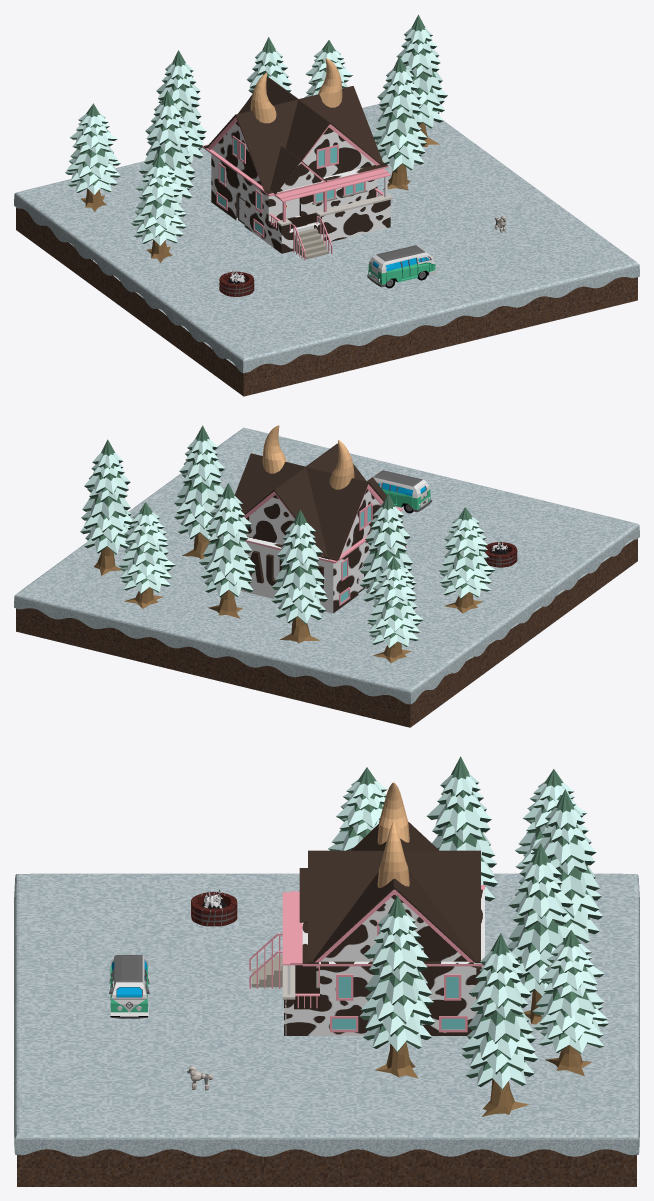
3 renders of one model, top to bottom at view 1: azimuth 30°, elevation 25°; view 2: azimuth 150°, elevation 25°; view 3: azimuth 270°, elevation 25°, orthographic. The views are drawn at different scales.
Visible parts, largest first — view 1: Cube.003, Cube.1242, VEHICLES_VAN, OBJRANDOM_CAMPFIRE; view 2: Cube.003, Cube.1242, VEHICLES_VAN, OBJRANDOM_CAMPFIRE; view 3: Cube.003, Cube.1242, VEHICLES_VAN, OBJRANDOM_CAMPFIRE.
Part boxes in pixels (<box>): Cube.003: <box>14,14,639,396</box>; Cube.1242: <box>202,58,393,260</box>; VEHICLES_VAN: <box>367,245,436,288</box>; OBJRANDOM_CAMPFIRE: <box>219,270,254,296</box>; Cube.003: <box>14,425,639,727</box>; Cube.1242: <box>235,425,406,613</box>; VEHICLES_VAN: <box>372,470,431,513</box>; OBJRANDOM_CAMPFIRE: <box>485,541,517,567</box>; Cube.003: <box>14,756,639,1186</box>; Cube.1242: <box>249,782,484,1035</box>; VEHICLES_VAN: <box>109,955,149,1018</box>; OBJRANDOM_CAMPFIRE: <box>191,889,237,926</box>.
Size of the model in its own units: 4040 by 1858 by 4040.
Materials: 36 (3 with a texture image).
